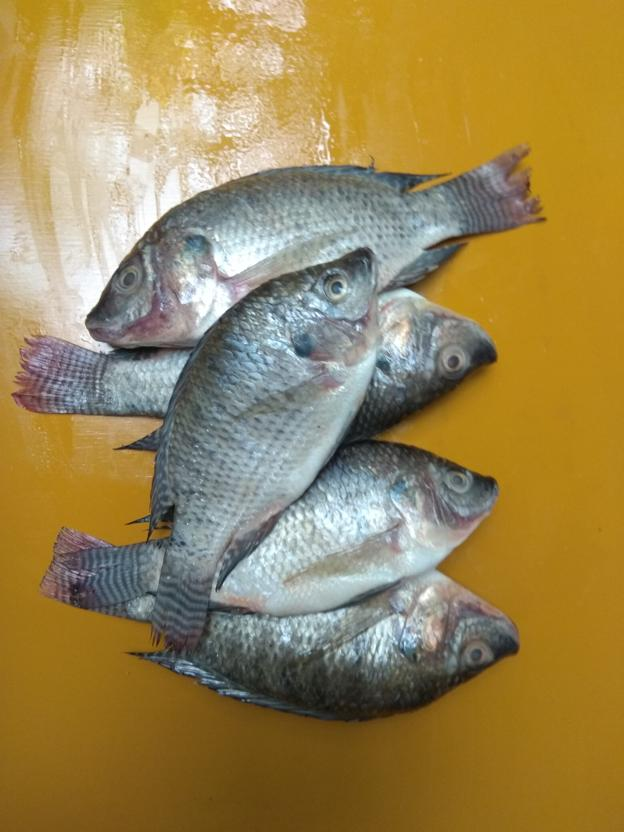Fish head: (83, 230, 218, 351), (396, 574, 522, 702), (375, 287, 499, 416), (274, 245, 381, 365), (387, 445, 499, 554)
Fish tail: (436, 142, 552, 238), (10, 330, 124, 416), (151, 554, 216, 663), (56, 540, 156, 610)
